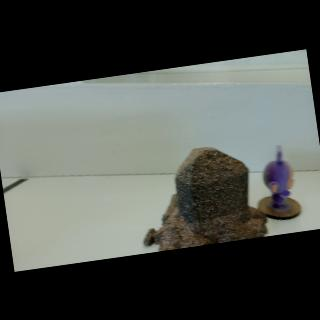teletubby: (263, 146, 292, 208)
